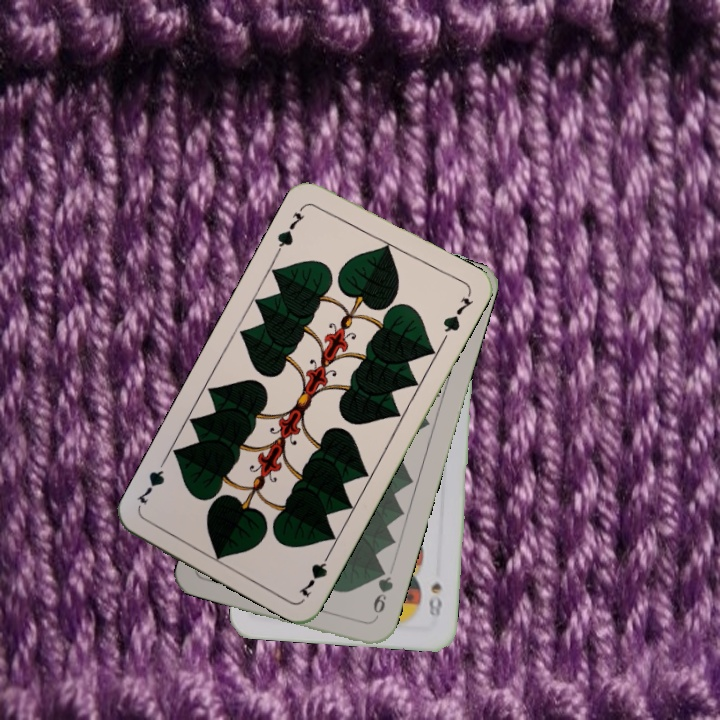G7: (294, 546, 335, 601), (272, 201, 308, 255)
G9: (369, 563, 396, 623)
S8: (424, 579, 445, 621)
